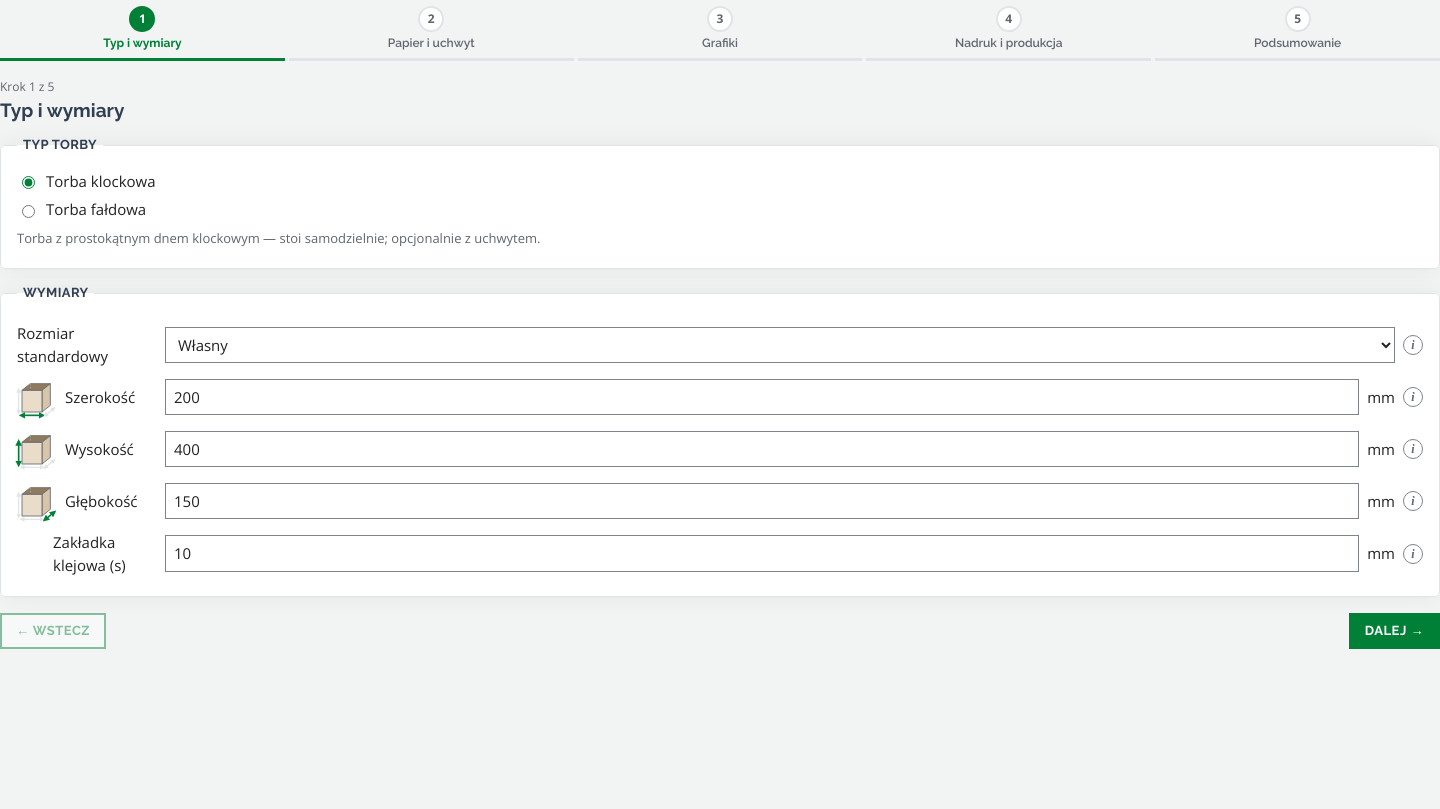
it: BagConfigurator step navigation › switches to the gusseted bag and explains what had to be adjusted
Click the radio button labelled "Torba fałdowa": x=28, y=211 [22,204,35,218]
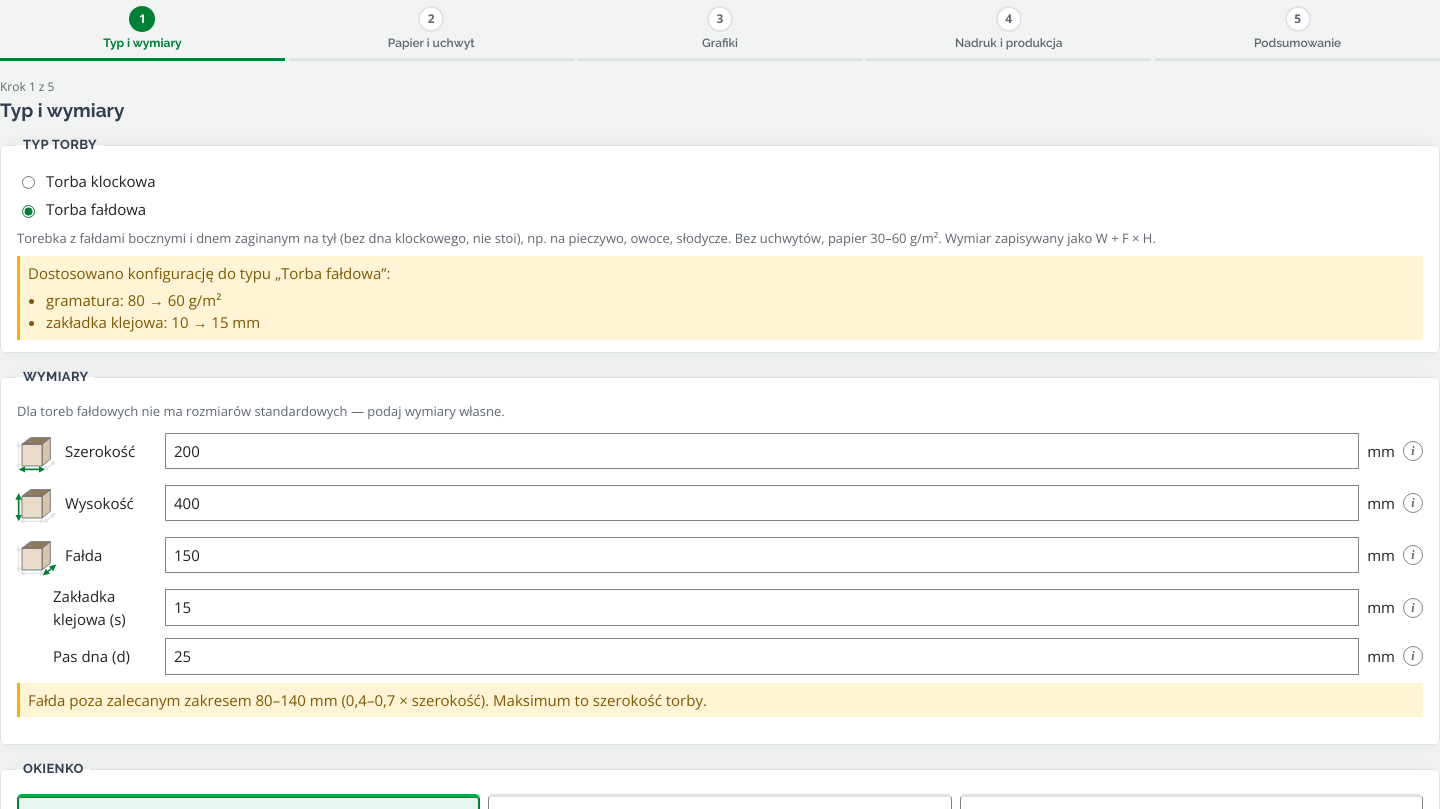
Expected: the 1st message shows "gramatura: 80 → 60 g/m²", [46,290,221,310]
Expected: the text labelled "Głębokość" is gone
Expected: the text "Fałda poza zalecanym zakresem 80–140 mm" is shown, [28,690,707,710]
Click the button "2 Papier i uchwyt": x=431, y=31 [289,0,574,61]
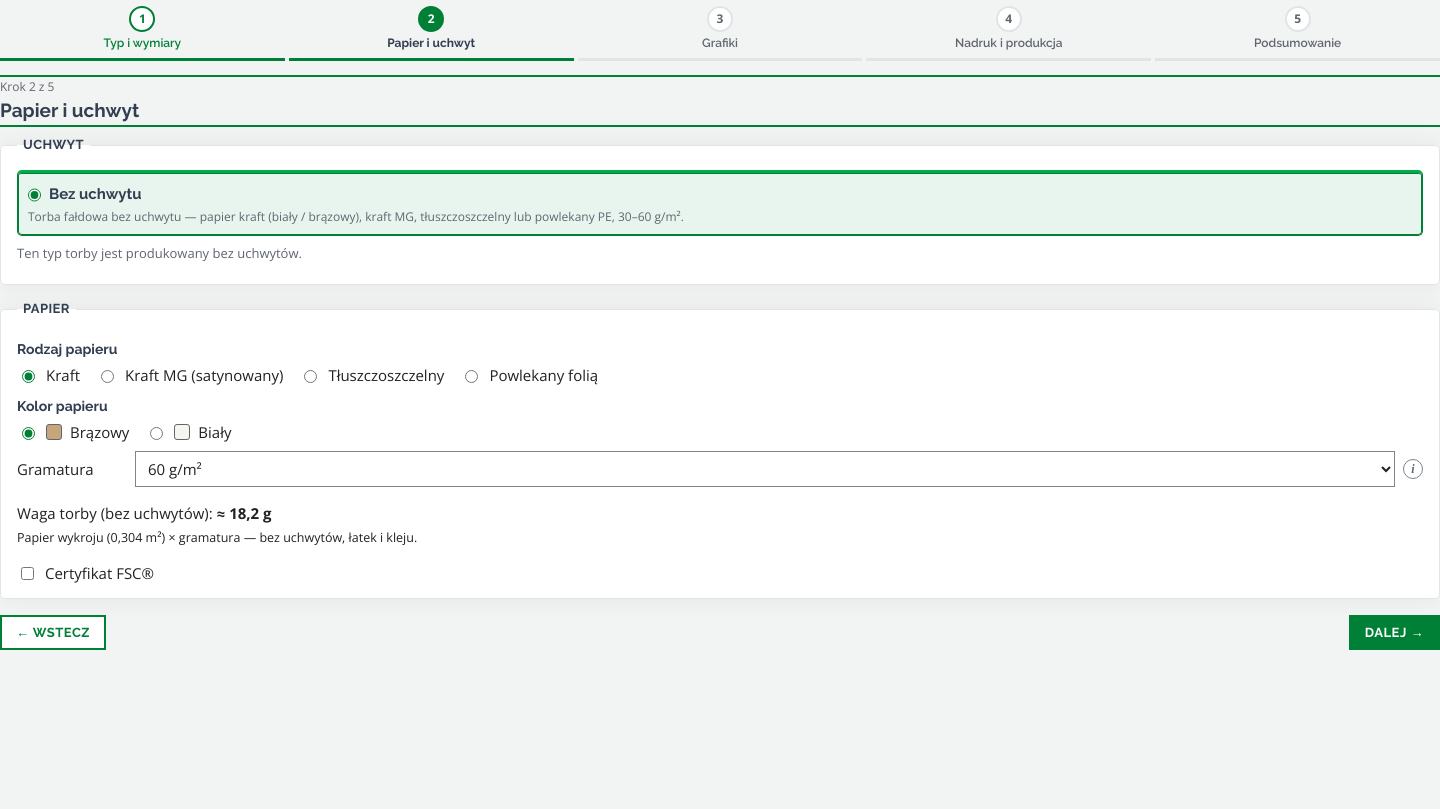
Expected: the number of radio buttons labelled "uchwyt" is 1, [28,185,41,205]
Expected: the text "Ten typ torby jest produkowany bez uchwytów." is shown, [17,244,302,262]
Note: The summary writes the size in the client notation W + F × H.
Click the button "5 Podsumowanie": x=1298, y=31 [1155,0,1439,61]
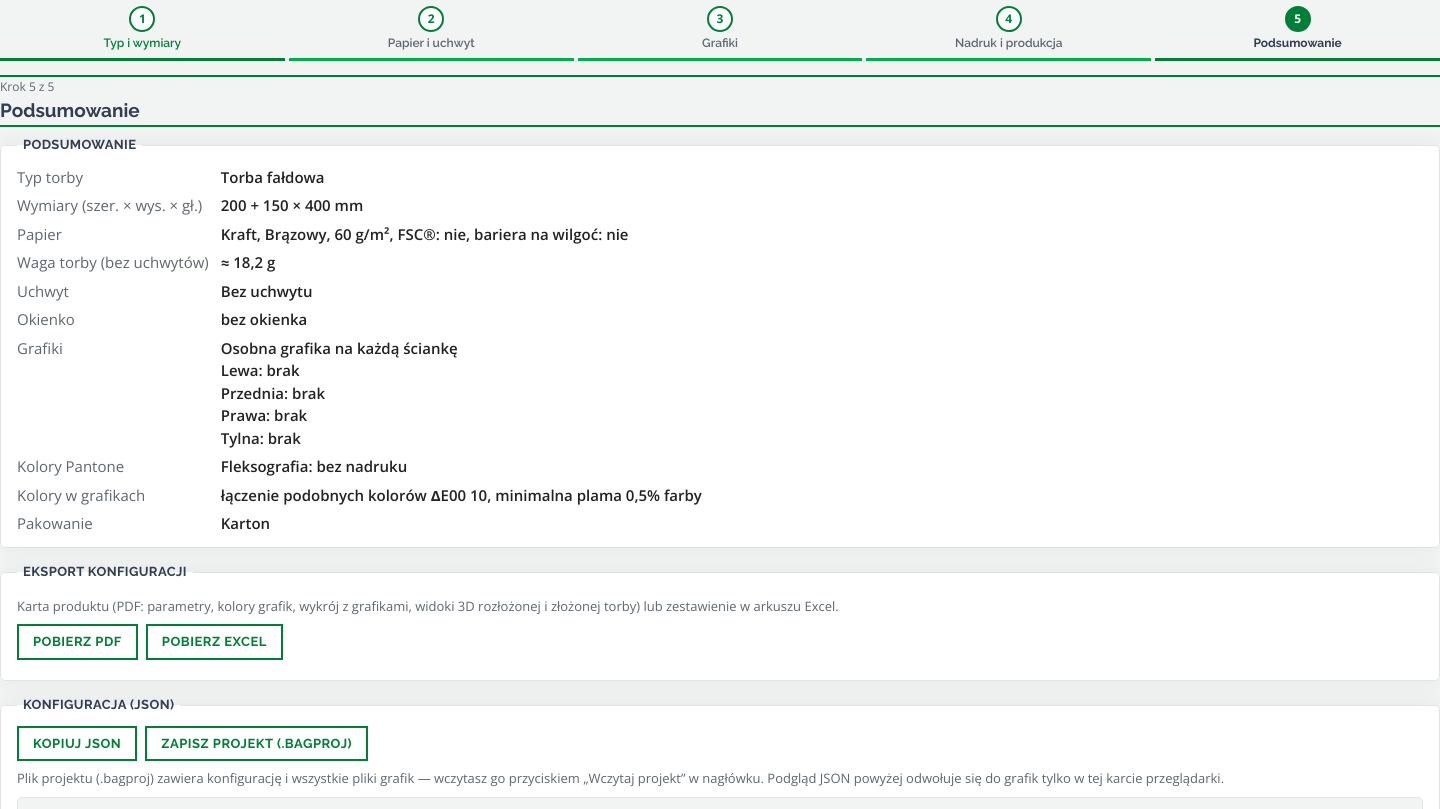
Expected: the text "200 + 150 × 400 mm" is shown, [221,195,363,215]
